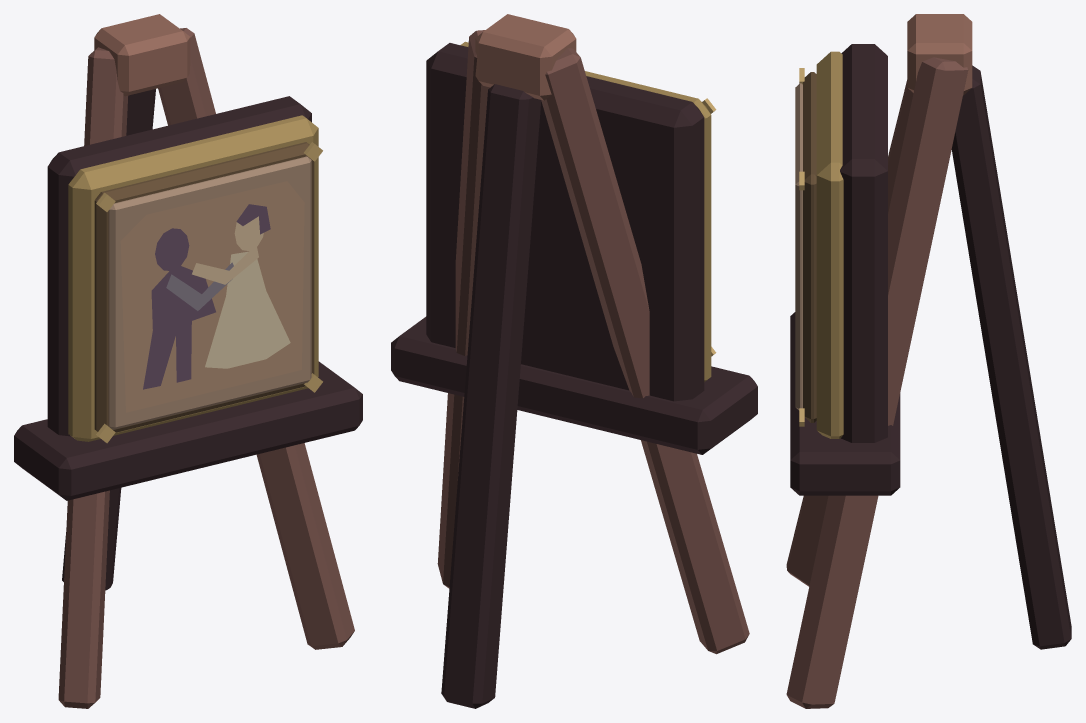
File: wedding_photo.glb
3 views of the same model, side by side, from view 1: azimuth 30°, elevation 25°; view 2: azimuth 150°, elevation 25°; view 3: azimuth 270°, elevation 25° (orthographic). The views are drawn at different scales.
Visible parts, largest first — view 1: wedding_photo; view 2: wedding_photo; view 3: wedding_photo.
Part boxes in pixels (box(x1,y1,x2,y2)): wedding_photo: box(14, 14, 362, 708); wedding_photo: box(391, 14, 757, 708); wedding_photo: box(786, 14, 1071, 708).
Size of the model in its own units: 0.46 by 0.8701 by 0.3646.
